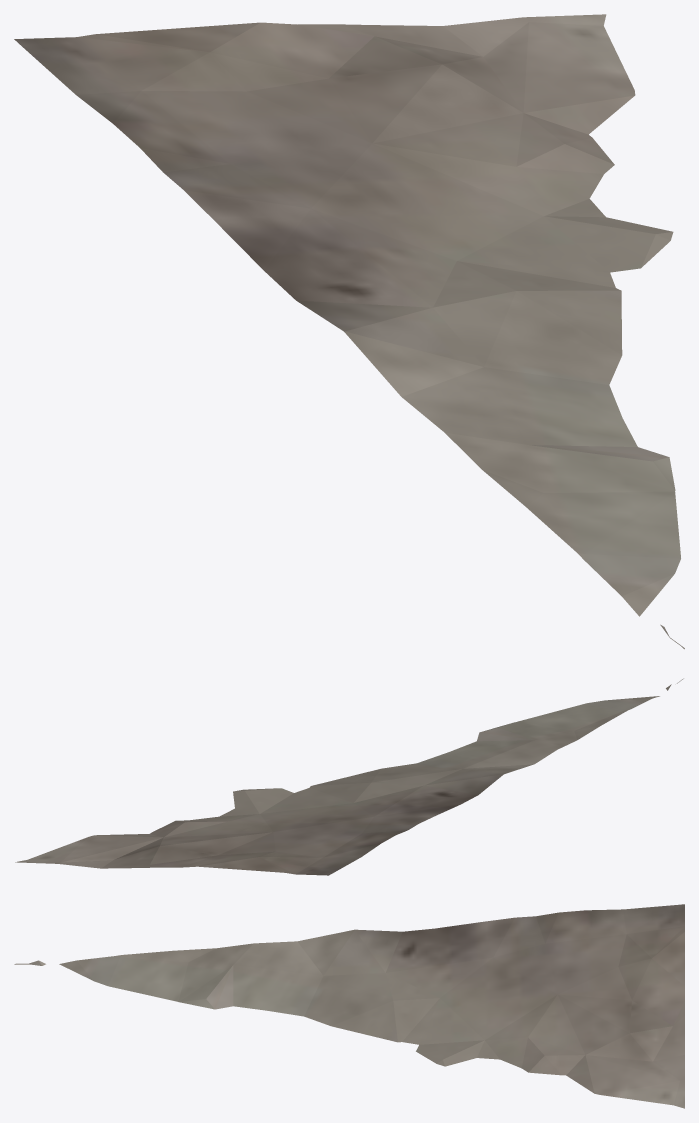
The picture shows the model from 3 angles, top to bottom: view 1: azimuth 30°, elevation 25°; view 2: azimuth 150°, elevation 25°; view 3: azimuth 270°, elevation 25°; orthographic projection. The views are drawn at different scales.
Size of the model in its own units: 0.2509 by 0.0485 by 0.4917.
Materials: 1 (1 with a texture image).
